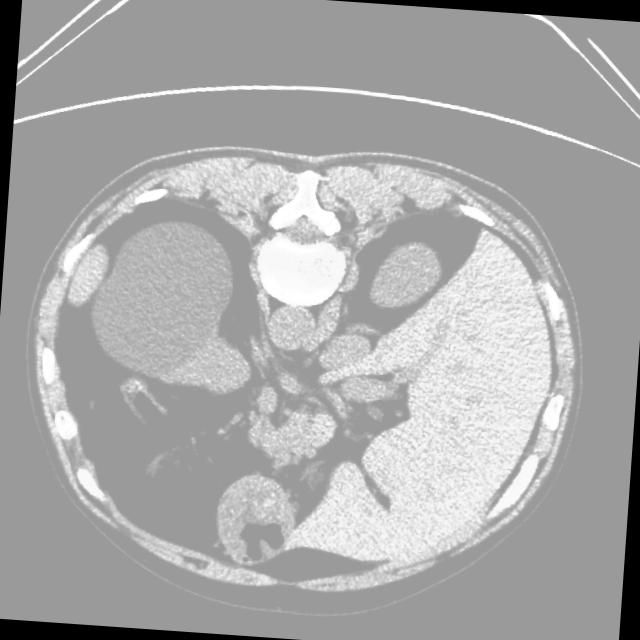cysts: (13, 131, 594, 618)
